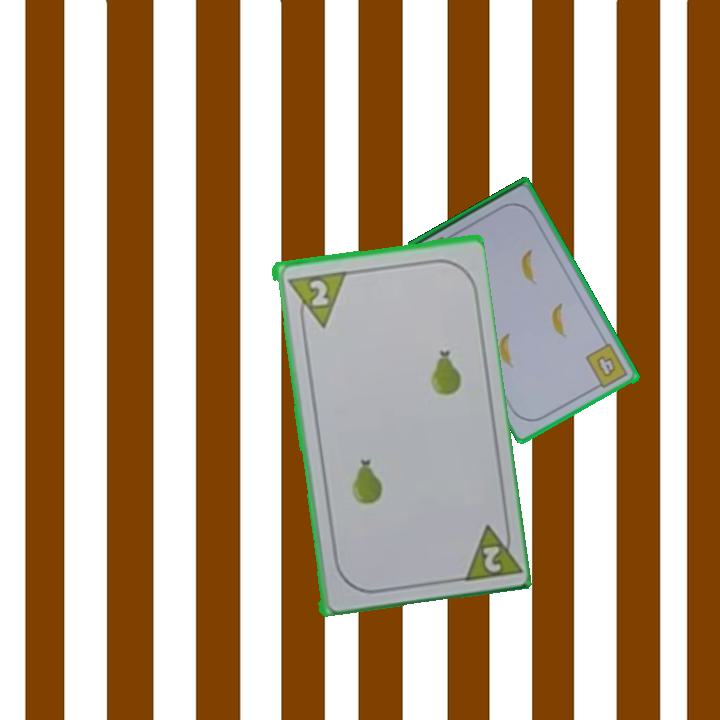2p: (456, 517, 521, 584), (282, 267, 347, 332)
4b: (582, 340, 631, 392)
